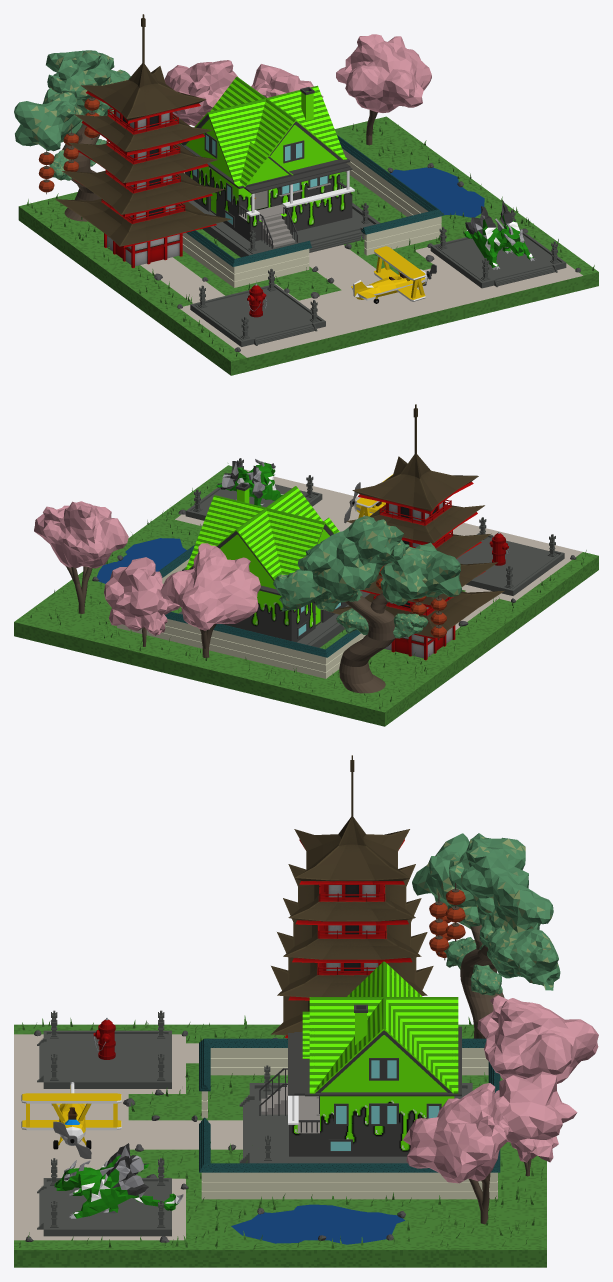
3 renders of one model, top to bottom at view 1: azimuth 30°, elevation 25°; view 2: azimuth 150°, elevation 25°; view 3: azimuth 270°, elevation 25°, orthographic. The views are drawn at different scales.
Parts seen in each view (by area): view 1: Cube.005, Cube.754, VEHICLES_AIRPLANE, ANIMAL_DRAGON; view 2: Cube.005, Cube.754, ANIMAL_DRAGON, VEHICLES_AIRPLANE, OBJRANDOM_FIRE_HYDRANT; view 3: Cube.005, Cube.754, ANIMAL_DRAGON, VEHICLES_AIRPLANE, OBJRANDOM_FIRE_HYDRANT.
Boxes of the visible parts, x1,y1,x2,y2 form: Cube.005: (14,14,598,375); Cube.754: (179,76,354,248); VEHICLES_AIRPLANE: (350,246,436,303); ANIMAL_DRAGON: (464,201,536,269); Cube.005: (14,404,598,726); Cube.754: (182,482,347,642); ANIMAL_DRAGON: (216,459,283,506); VEHICLES_AIRPLANE: (344,474,393,523); OBJRANDOM_FIRE_HYDRANT: (489,532,509,565); Cube.005: (14,755,598,1267); Cube.754: (259,961,461,1156); ANIMAL_DRAGON: (54,1143,183,1218); VEHICLES_AIRPLANE: (21,1082,121,1158); OBJRANDOM_FIRE_HYDRANT: (93,1018,115,1059).
Bounding box in the file's own units: 4528 × 2668 × 4389.
45 materials, 6 textured.
